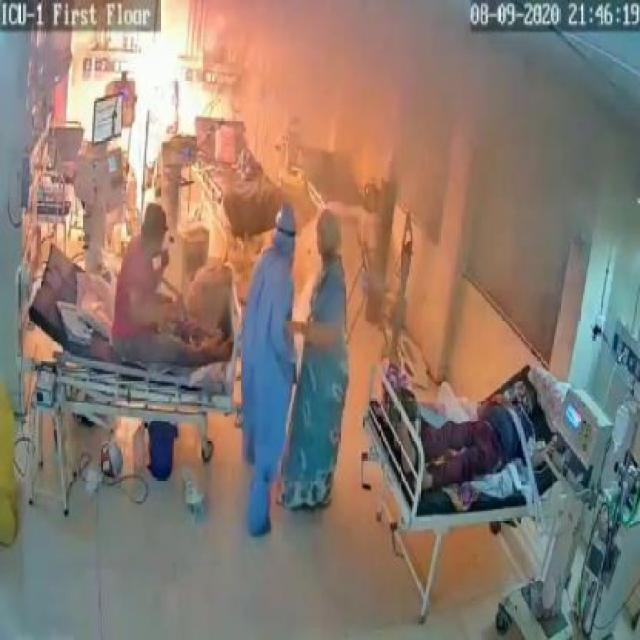fire: (110, 10, 219, 158)
smoke: (292, 10, 638, 238)
